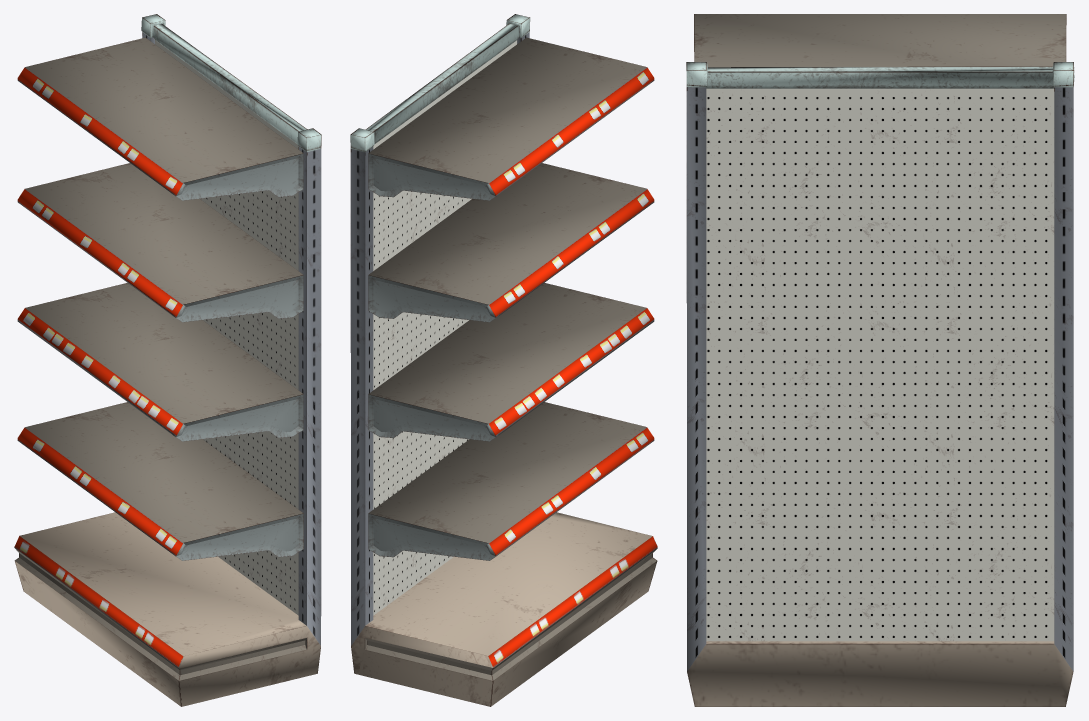
File: GondolaAlta.fbx
3 views of the same model, side by side, from view 1: azimuth 30°, elevation 25°; view 2: azimuth 150°, elevation 25°; view 3: azimuth 270°, elevation 25° (orthographic). The views are drawn at different scales.
Parts seen in each view (by area): view 1: shelf_piece_exp022; view 2: shelf_piece_exp022; view 3: shelf_piece_exp022.
Part boxes in pixels (x1=…): shelf_piece_exp022: x1=14, y1=14, x2=321, y2=706; shelf_piece_exp022: x1=350, y1=14, x2=657, y2=706; shelf_piece_exp022: x1=686, y1=14, x2=1074, y2=706.
Bounding box in the file's own units: 47.8 × 173 × 95.39.
4 materials, 4 textured.
